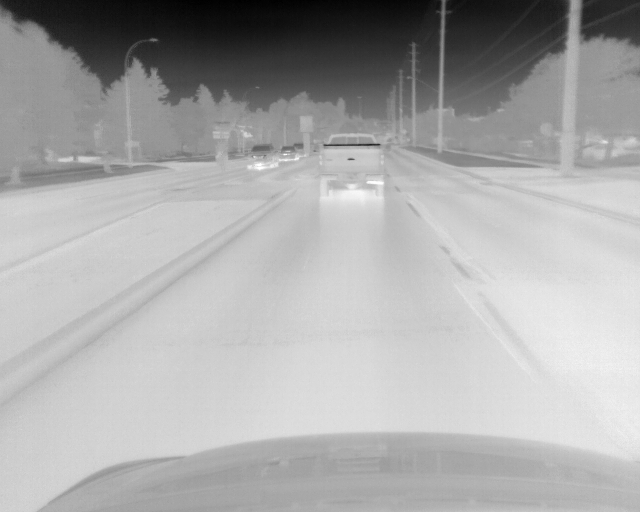car: (318, 132, 385, 198), (246, 144, 279, 170), (279, 146, 300, 163), (294, 142, 308, 158)
